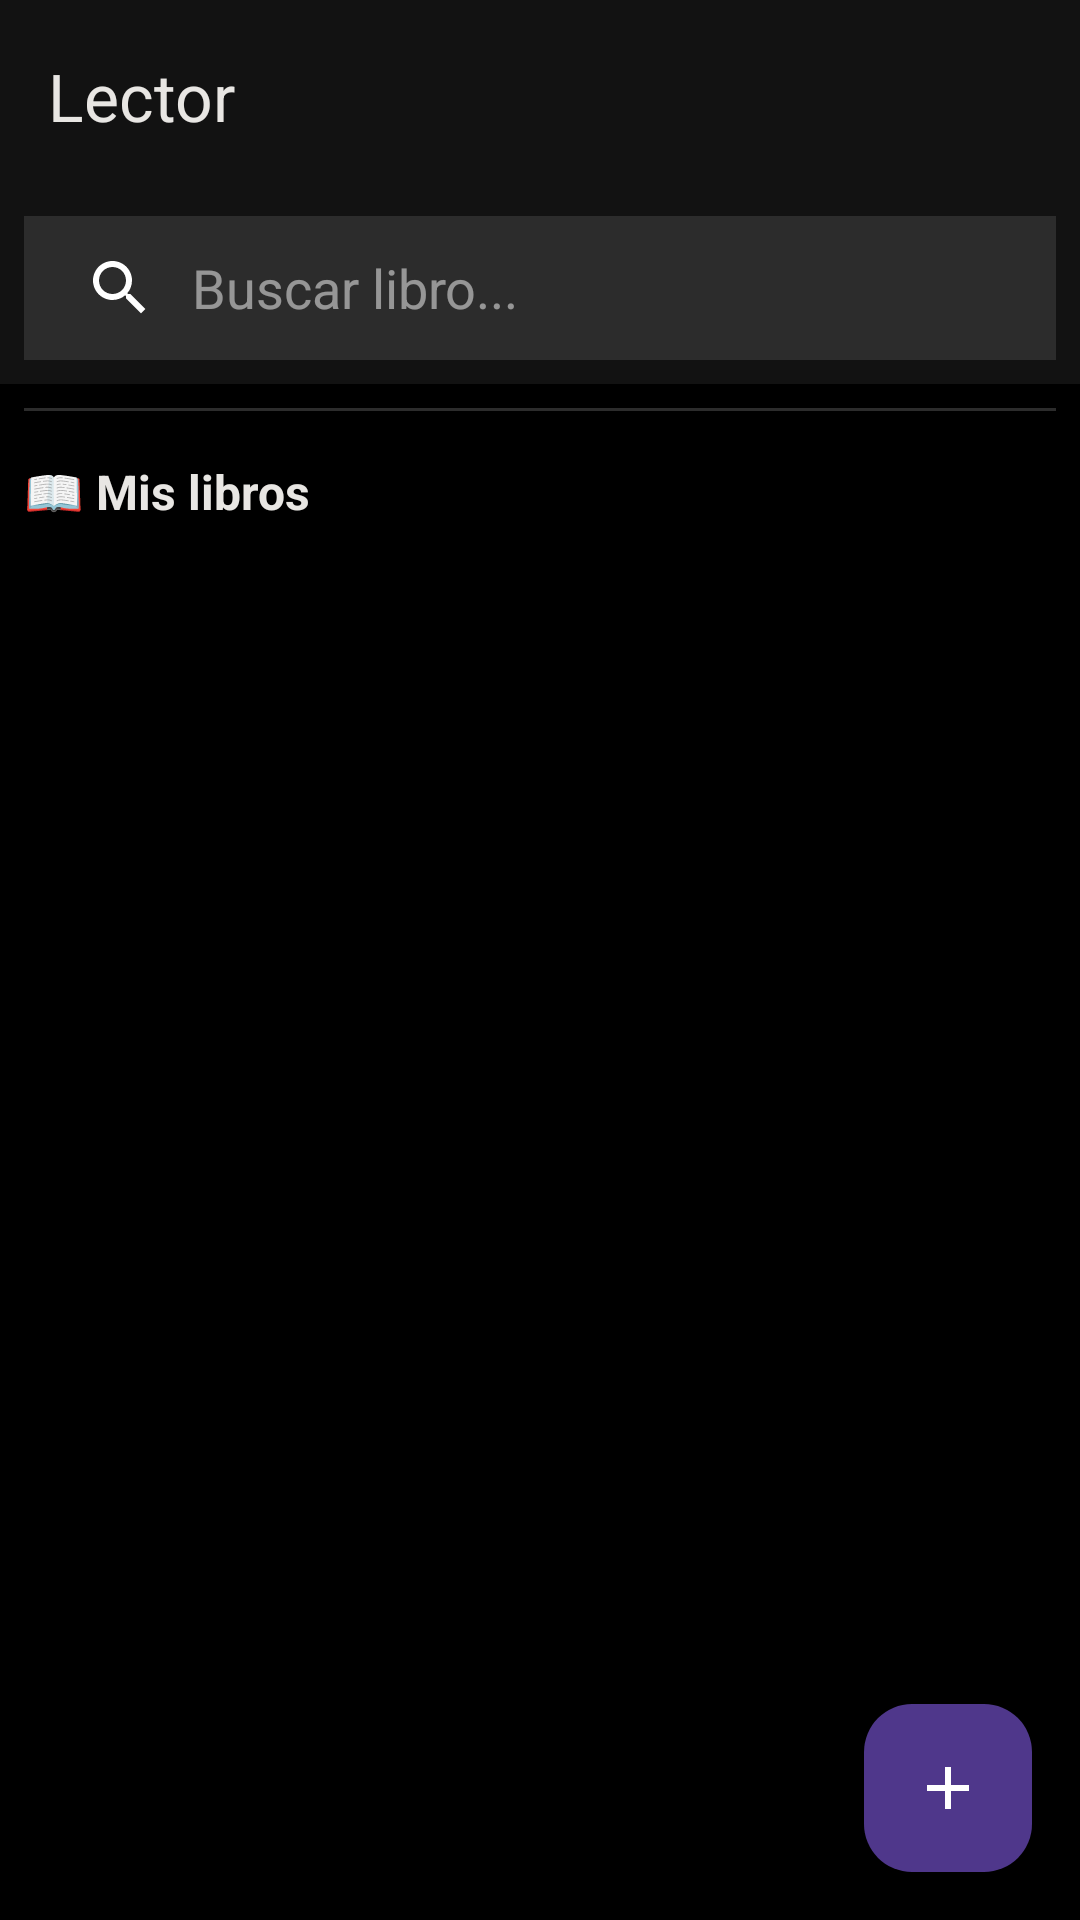

Point at icon controls on the screen. Image size 1080 × 1920, points as (x,y).
Agregar libro: (948,1788)
